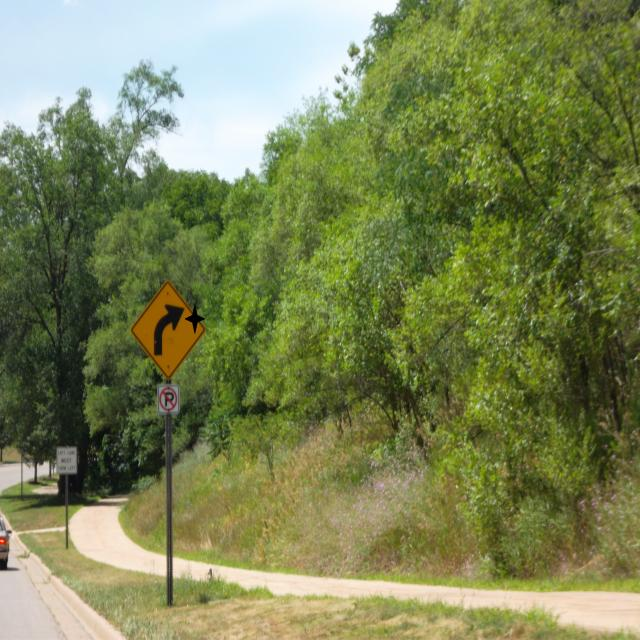regulatory: (155, 383, 182, 420), (56, 444, 78, 478)
warning: (130, 276, 208, 382)
